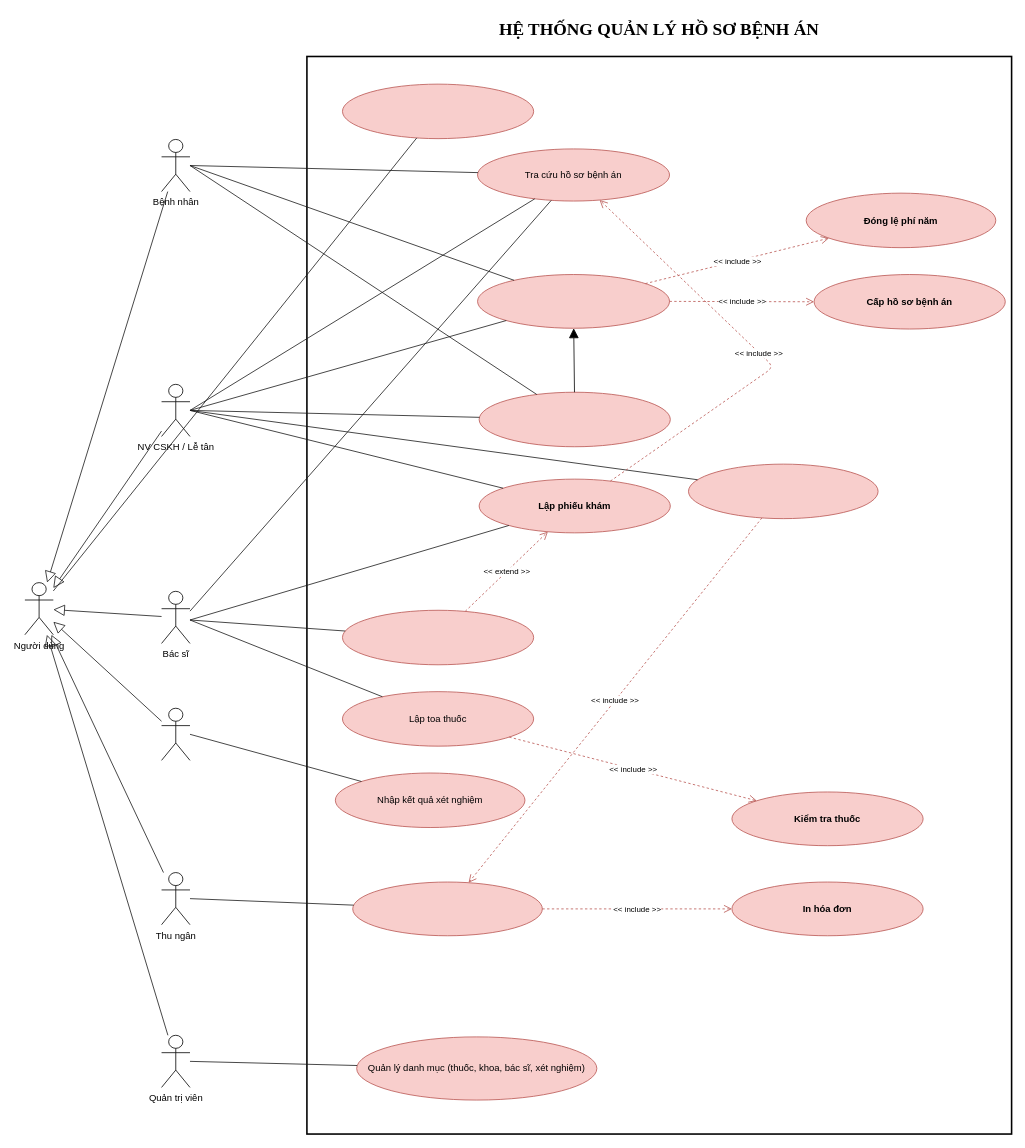
Image size: 1025x1148. Some labels were removed from this diagram. Each missing label, with the centre of its shape:
Chỉ định xét nghiệm: (x=438, y=637)
Hoàn tất đợt điều trị: (x=783, y=491)
NV Xét nghiệm: (x=175, y=733)
Thanh toán viện phí: (x=447, y=908)
Đăng ký khám lần đầu: (x=573, y=301)
Đăng nhập: (x=438, y=111)
Đặt lịch khám định kỳ: (x=574, y=419)
